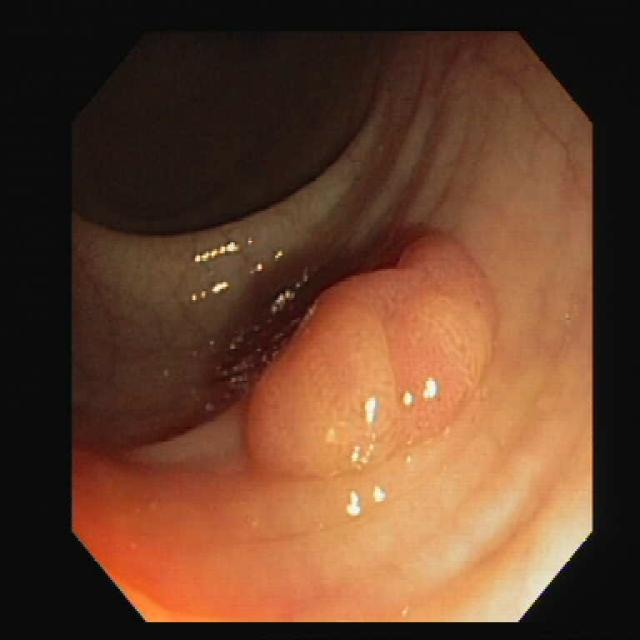tumor: (243, 236, 468, 464)
